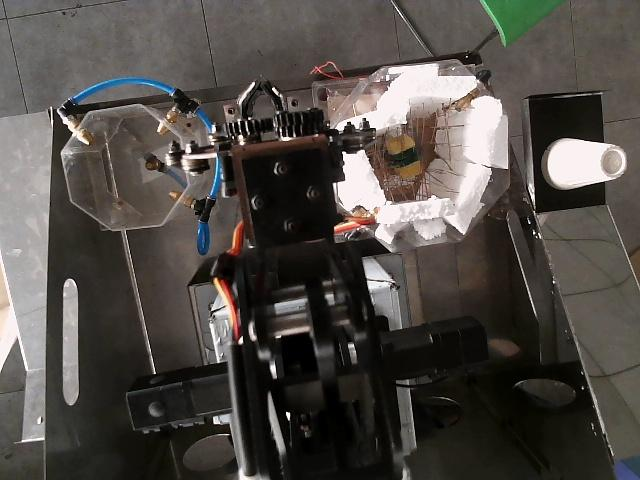cup: (543, 138, 626, 189)
